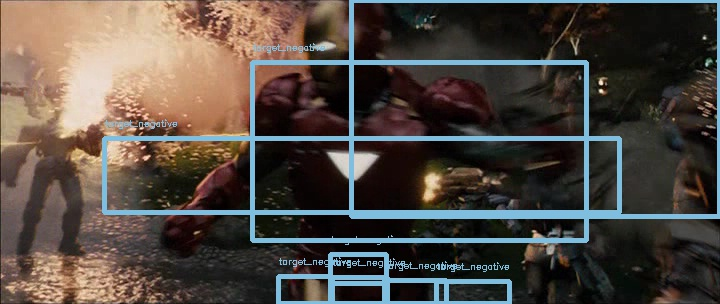person: (302, 4, 378, 90), (301, 4, 377, 90), (303, 4, 379, 90), (302, 3, 378, 89), (302, 5, 378, 91)
target_negative: (299, 50, 620, 125), (5, 272, 613, 296), (317, 163, 440, 276), (79, 235, 217, 285), (459, 215, 512, 297), (682, 150, 694, 244)
